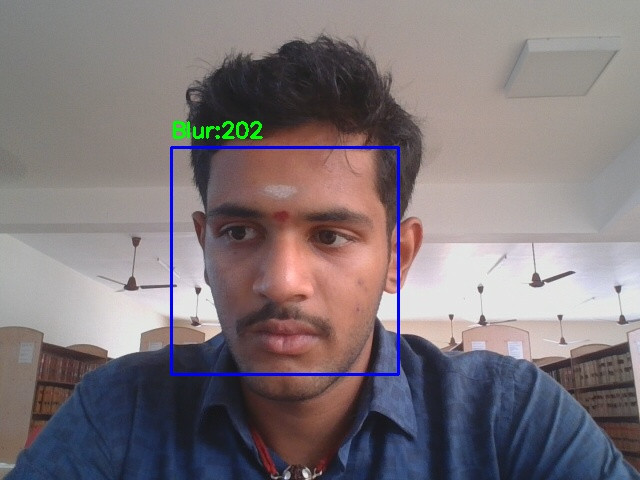real: (171, 147, 398, 374)
